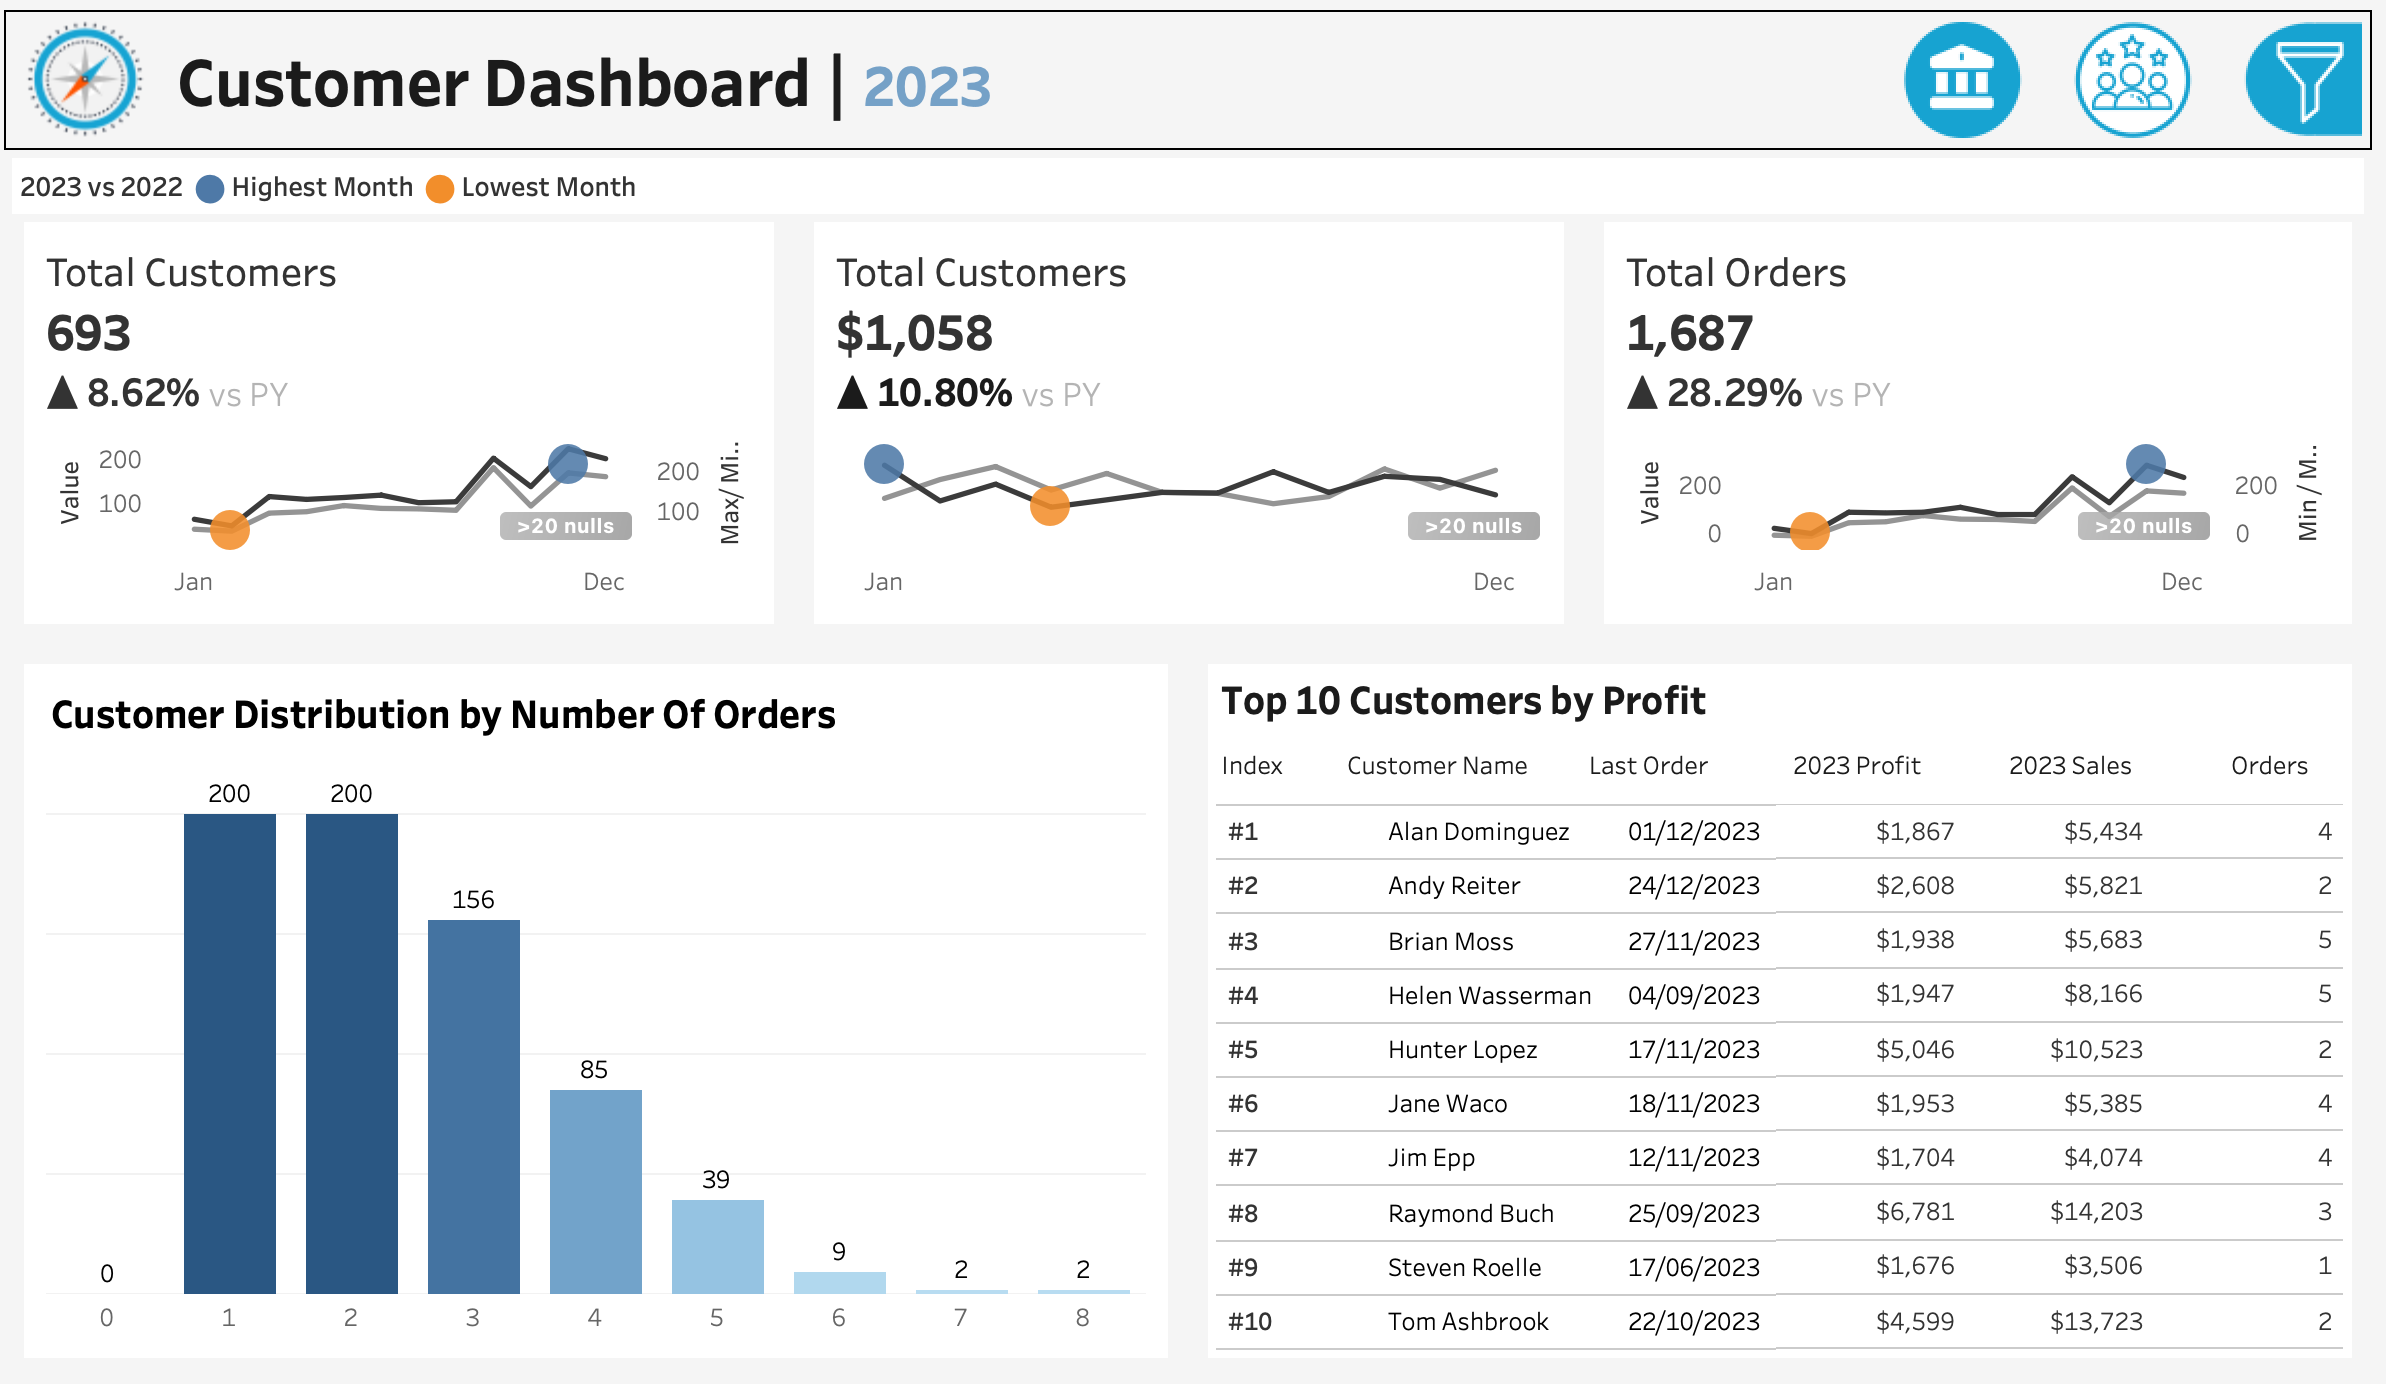

Layout of this report page (visuals, bound fields, positions):
{"tool":"tableau","page":{"name":"Customer Dashboard","canvas":[1200,700],"ordinal":0},"visuals":[{"type":"blank","box":[982,7,218,90]},{"type":"image","param":"Image/Icon - Logo.png","box":[9,9,79,68]},{"type":"text","box":[88,9,1103,68]},{"type":"dashboard-object","box":[945,9,85,68]},{"type":"dashboard-object","box":[1030,9,85,68]},{"type":"dashboard-object","box":[1115,9,84,68]},{"type":"worksheet","title":"Legends KPI","mark":"Automatic","box":[8,78,1184,36]},{"type":"text","box":[982,97,218,32]},{"type":"worksheet","title":"KPI Customer","mark":"Line","rows":["Calculation_3948530982961807367"],"cols":["Order Date"],"box":[8,114,395,211]},{"type":"worksheet","title":"KPI Sales per Customer","mark":"Line","rows":["Calculation_4467289365049245705"],"cols":["Order Date"],"box":[403,114,395,211]},{"type":"worksheet","title":"KPI Orders","mark":"Line","rows":["Calculation_4494803544037588995"],"cols":["Order Date"],"box":[798,114,394,211]},{"type":"parameter","param":"[Parameters].[Parameter 1]","box":[982,129,218,52]},{"type":"blank","box":[982,181,218,32]},{"type":"text","box":[982,213,218,31]},{"type":"filter","title":"KPI Customer","param":"[federated.0hshupf1bwe4om1clgvts0sz4iay].[none:Category:nk]","box":[982,244,218,52]},{"type":"filter","title":"KPI Customer","param":"[federated.0hshupf1bwe4om1clgvts0sz4iay].[none:Sub-Category:nk]","box":[982,296,218,52]},{"type":"text","box":[610,335,572,34]},{"type":"text","box":[25,342,558,34]},{"type":"blank","box":[982,348,218,32]},{"type":"text","box":[610,369,63.5,32]},{"type":"text","box":[673.5,369,121,32]},{"type":"text","box":[794.5,369,101,32]},{"type":"text","box":[895.5,369,108,32]},{"type":"text","box":[1003.5,369,111,32]},{"type":"text","box":[1114.5,369,67.5,32]},{"type":"worksheet","title":"Customer Distribution","mark":"Automatic","rows":["Calculation_3948530982958276608"],"cols":["Calculation_4494803544065462278"],"box":[25,376,558,299]},{"type":"text","box":[982,380,218,30]},{"type":"worksheet","title":"Top Customers","mark":"Automatic","rows":["Calculation_4619215483829694467","Customer Name","Order Date"],"box":[610,401,572,281]},{"type":"filter","title":"KPI Customer","param":"[federated.0hshupf1bwe4om1clgvts0sz4iay].[none:Region:nk]","box":[982,410,218,52]},{"type":"filter","title":"KPI Customer","param":"[federated.0hshupf1bwe4om1clgvts0sz4iay].[none:State:nk]","box":[982,462,218,52]},{"type":"filter","title":"KPI Customer","param":"[federated.0hshupf1bwe4om1clgvts0sz4iay].[none:City:nk]","box":[982,514,218,52]}]}

Visuals, with their boxes in screenshot pixels (x1, y1, x2, y2), scaled from the page's 1200x700 canvas onto the 2386x1384 screenshot:
blank: pyautogui.locateOnScreen(1953, 14, 2385, 192)
image: pyautogui.locateOnScreen(18, 18, 175, 152)
text: pyautogui.locateOnScreen(175, 18, 2368, 152)
dashboard-object: pyautogui.locateOnScreen(1879, 18, 2048, 152)
dashboard-object: pyautogui.locateOnScreen(2048, 18, 2217, 152)
dashboard-object: pyautogui.locateOnScreen(2217, 18, 2384, 152)
"Legends KPI" worksheet: pyautogui.locateOnScreen(16, 154, 2370, 225)
text: pyautogui.locateOnScreen(1953, 192, 2385, 255)
"KPI Customer" worksheet (Line marks): pyautogui.locateOnScreen(16, 225, 801, 643)
"KPI Sales per Customer" worksheet (Line marks): pyautogui.locateOnScreen(801, 225, 1587, 643)
"KPI Orders" worksheet (Line marks): pyautogui.locateOnScreen(1587, 225, 2370, 643)
parameter: pyautogui.locateOnScreen(1953, 255, 2385, 358)
blank: pyautogui.locateOnScreen(1953, 358, 2385, 421)
text: pyautogui.locateOnScreen(1953, 421, 2385, 482)
"KPI Customer" filter: pyautogui.locateOnScreen(1953, 482, 2385, 585)
"KPI Customer" filter: pyautogui.locateOnScreen(1953, 585, 2385, 688)
text: pyautogui.locateOnScreen(1213, 662, 2350, 730)
text: pyautogui.locateOnScreen(50, 676, 1159, 743)
blank: pyautogui.locateOnScreen(1953, 688, 2385, 751)
text: pyautogui.locateOnScreen(1213, 730, 1339, 793)
text: pyautogui.locateOnScreen(1339, 730, 1580, 793)
text: pyautogui.locateOnScreen(1580, 730, 1781, 793)
text: pyautogui.locateOnScreen(1781, 730, 1995, 793)
text: pyautogui.locateOnScreen(1995, 730, 2216, 793)
text: pyautogui.locateOnScreen(2216, 730, 2350, 793)
"Customer Distribution" worksheet: pyautogui.locateOnScreen(50, 743, 1159, 1335)
text: pyautogui.locateOnScreen(1953, 751, 2385, 811)
"Top Customers" worksheet: pyautogui.locateOnScreen(1213, 793, 2350, 1348)
"KPI Customer" filter: pyautogui.locateOnScreen(1953, 811, 2385, 913)
"KPI Customer" filter: pyautogui.locateOnScreen(1953, 913, 2385, 1016)
"KPI Customer" filter: pyautogui.locateOnScreen(1953, 1016, 2385, 1119)
